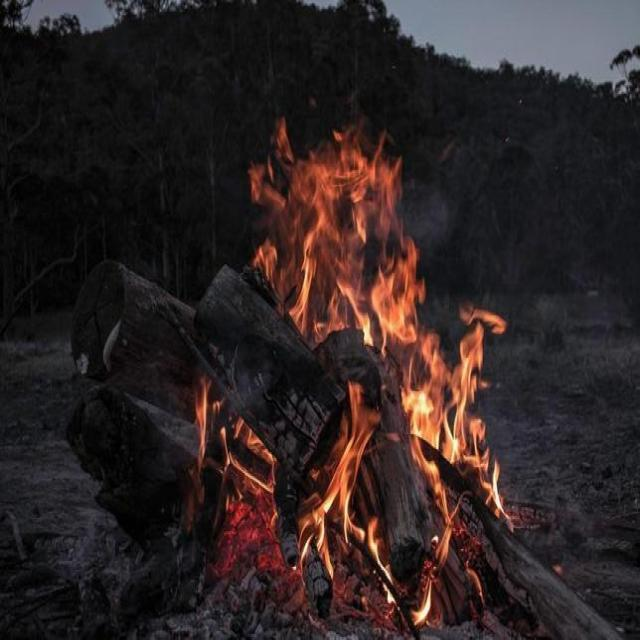Fire: (194, 114, 514, 626)
